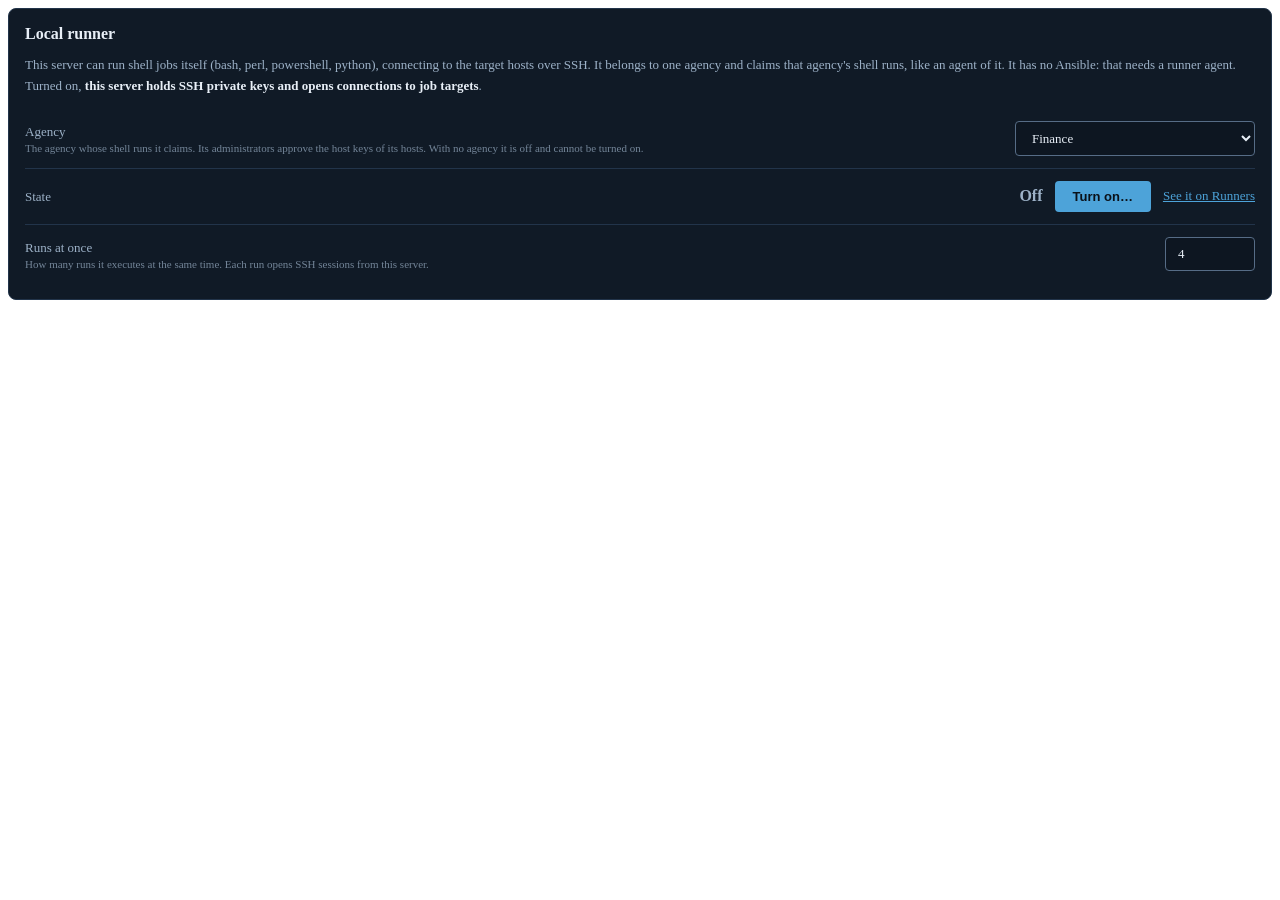
Test: Local runner card › says what turning it on means, and turns it on only after a confirmation
Expected: the text "Off" is shown, left=1019, top=187, right=1042, bottom=205
Click the button "Turn on…".
click(1103, 196)  # box left=1054, top=181, right=1151, bottom=212
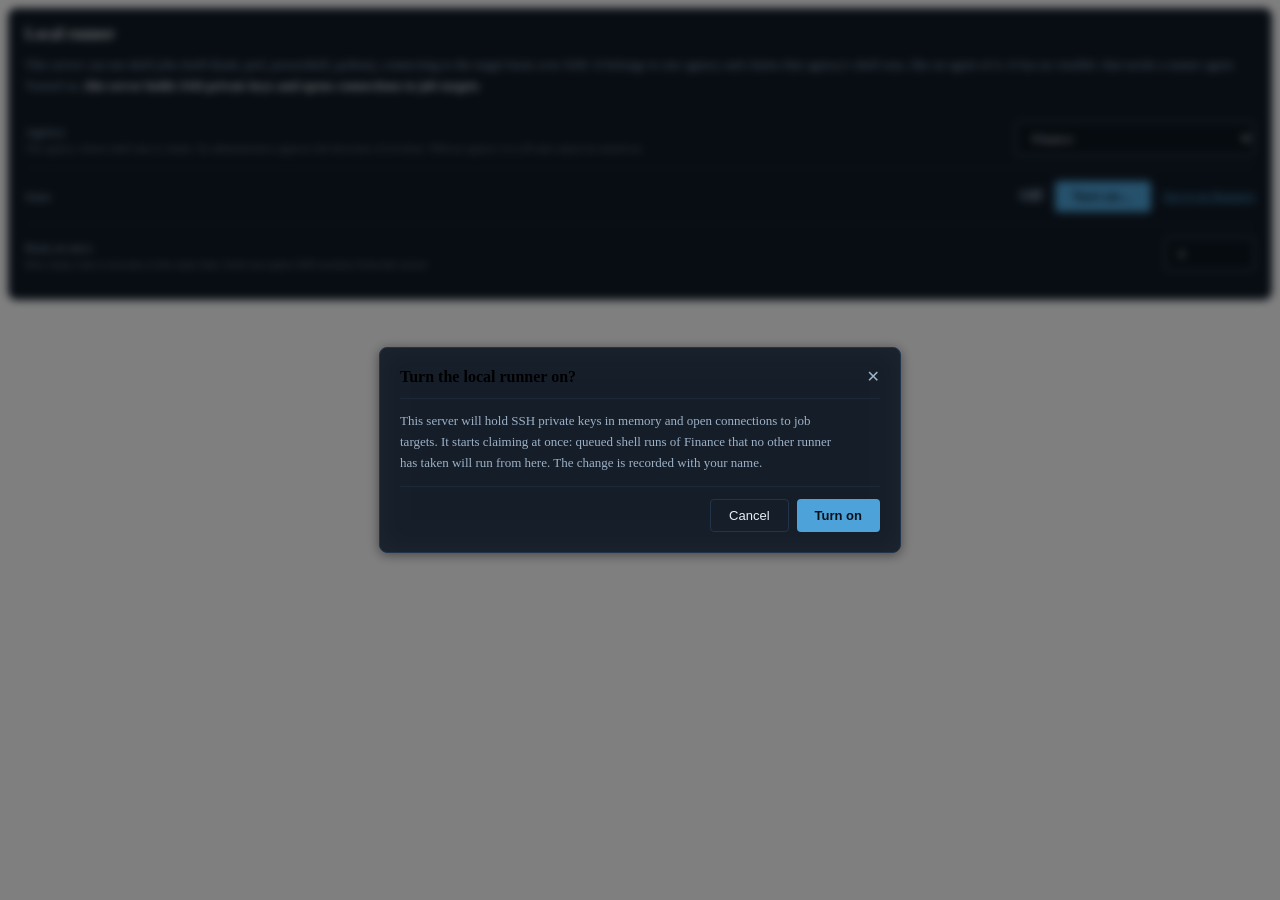
Result: the text "This server will hold SSH private keys in memory" is shown at left=400, top=413, right=810, bottom=449
Result: the text "queued shell runs of Finance that no other runner has taken" is shown at left=400, top=411, right=851, bottom=474
Click the button "Turn on".
click(838, 515)  # box left=797, top=499, right=880, bottom=532
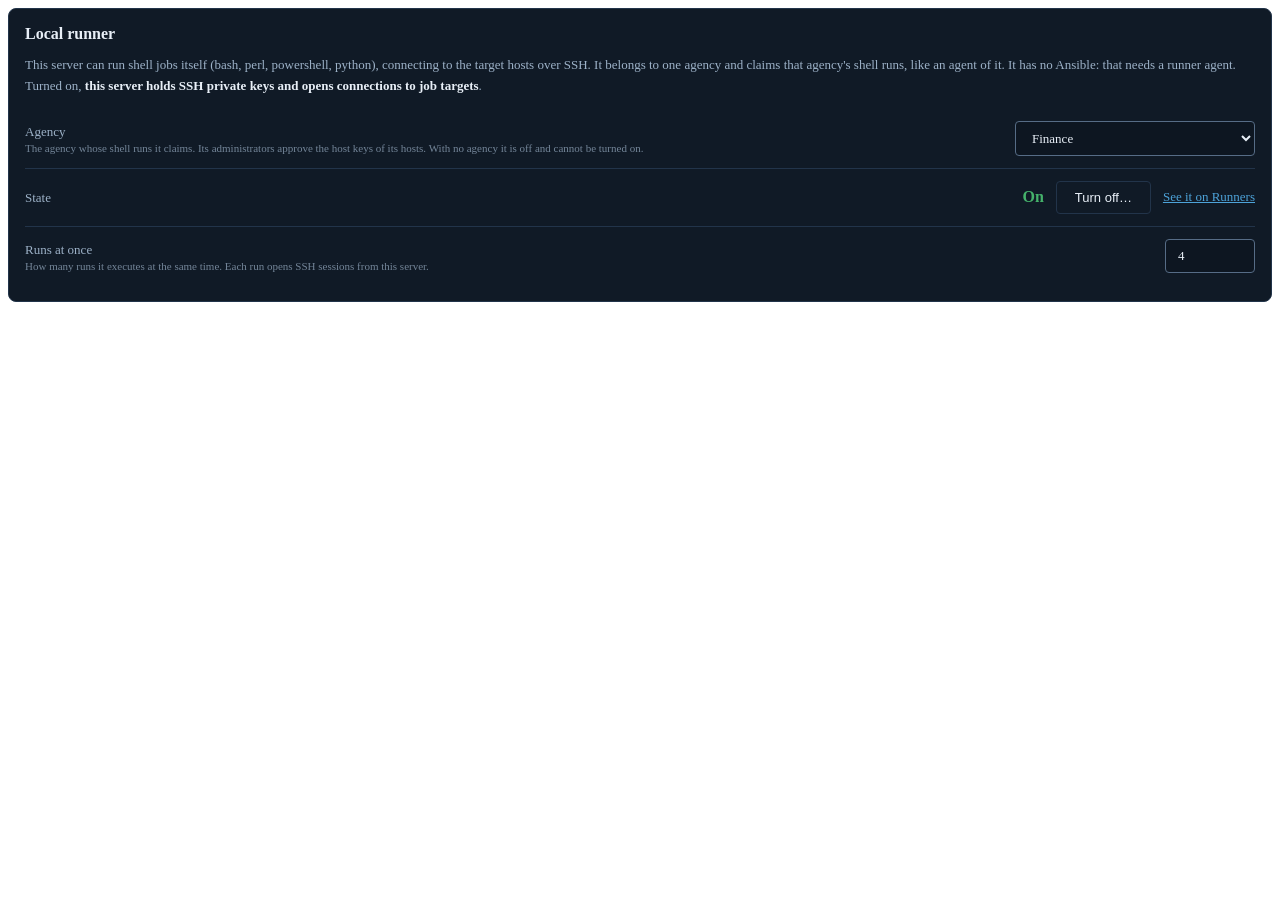
Result: the text "On" is shown at left=1022, top=188, right=1044, bottom=206
